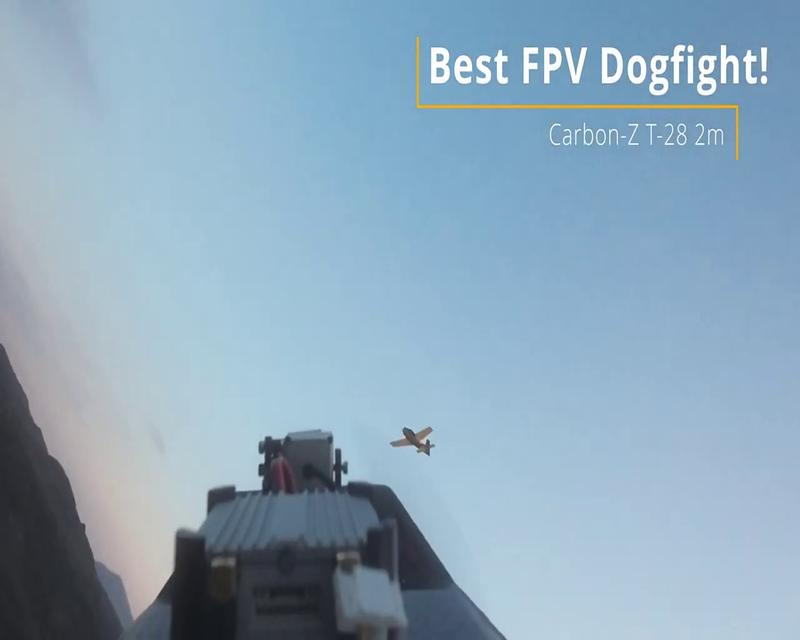UAV: (389, 424, 435, 459)
